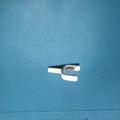u-shape: (46, 63, 80, 84)
